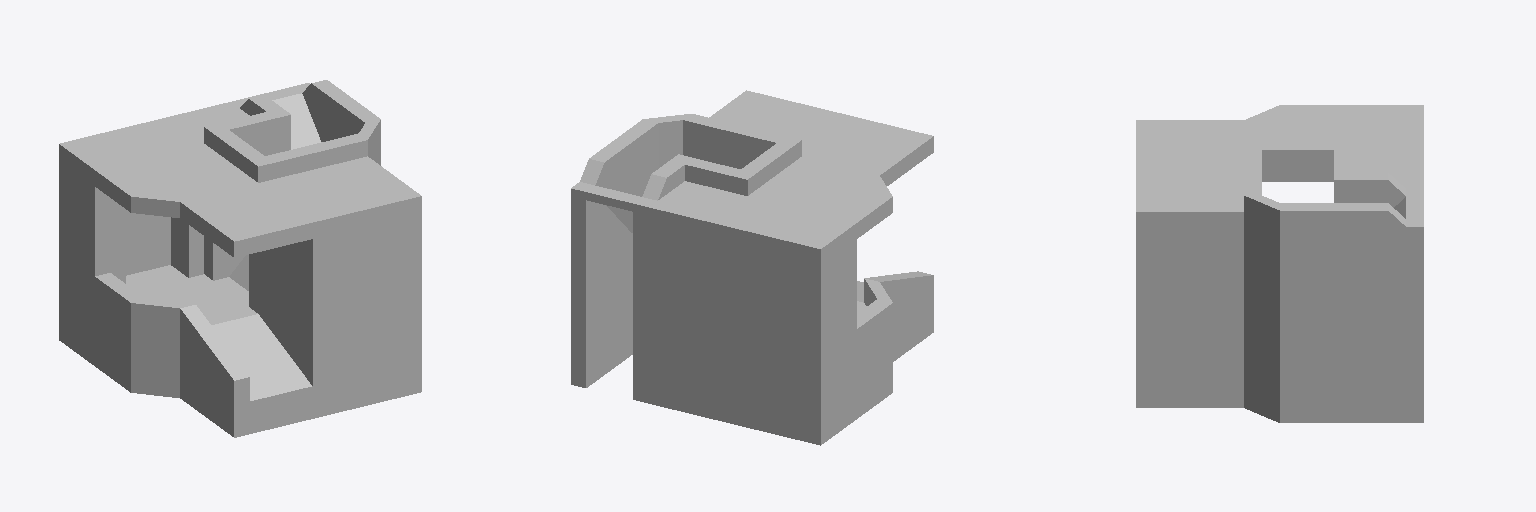
Rendered from bunker-ramped.obj.
3 renders of one model, left to right at view 1: azimuth 30°, elevation 25°; view 2: azimuth 150°, elevation 25°; view 3: azimuth 270°, elevation 25°, orthographic.
Parts seen in each view (by area): view 1: Mesh1 Bunker__Ramped1 Model; view 2: Mesh1 Bunker__Ramped1 Model; view 3: Mesh1 Bunker__Ramped1 Model.
Part boxes in pixels (x1,y1,x2,y2): Mesh1 Bunker__Ramped1 Model: (59,80,421,437); Mesh1 Bunker__Ramped1 Model: (571,90,933,445); Mesh1 Bunker__Ramped1 Model: (1136,105,1423,422).
Bounding box in the file's own units: 4 × 3.25 × 4.